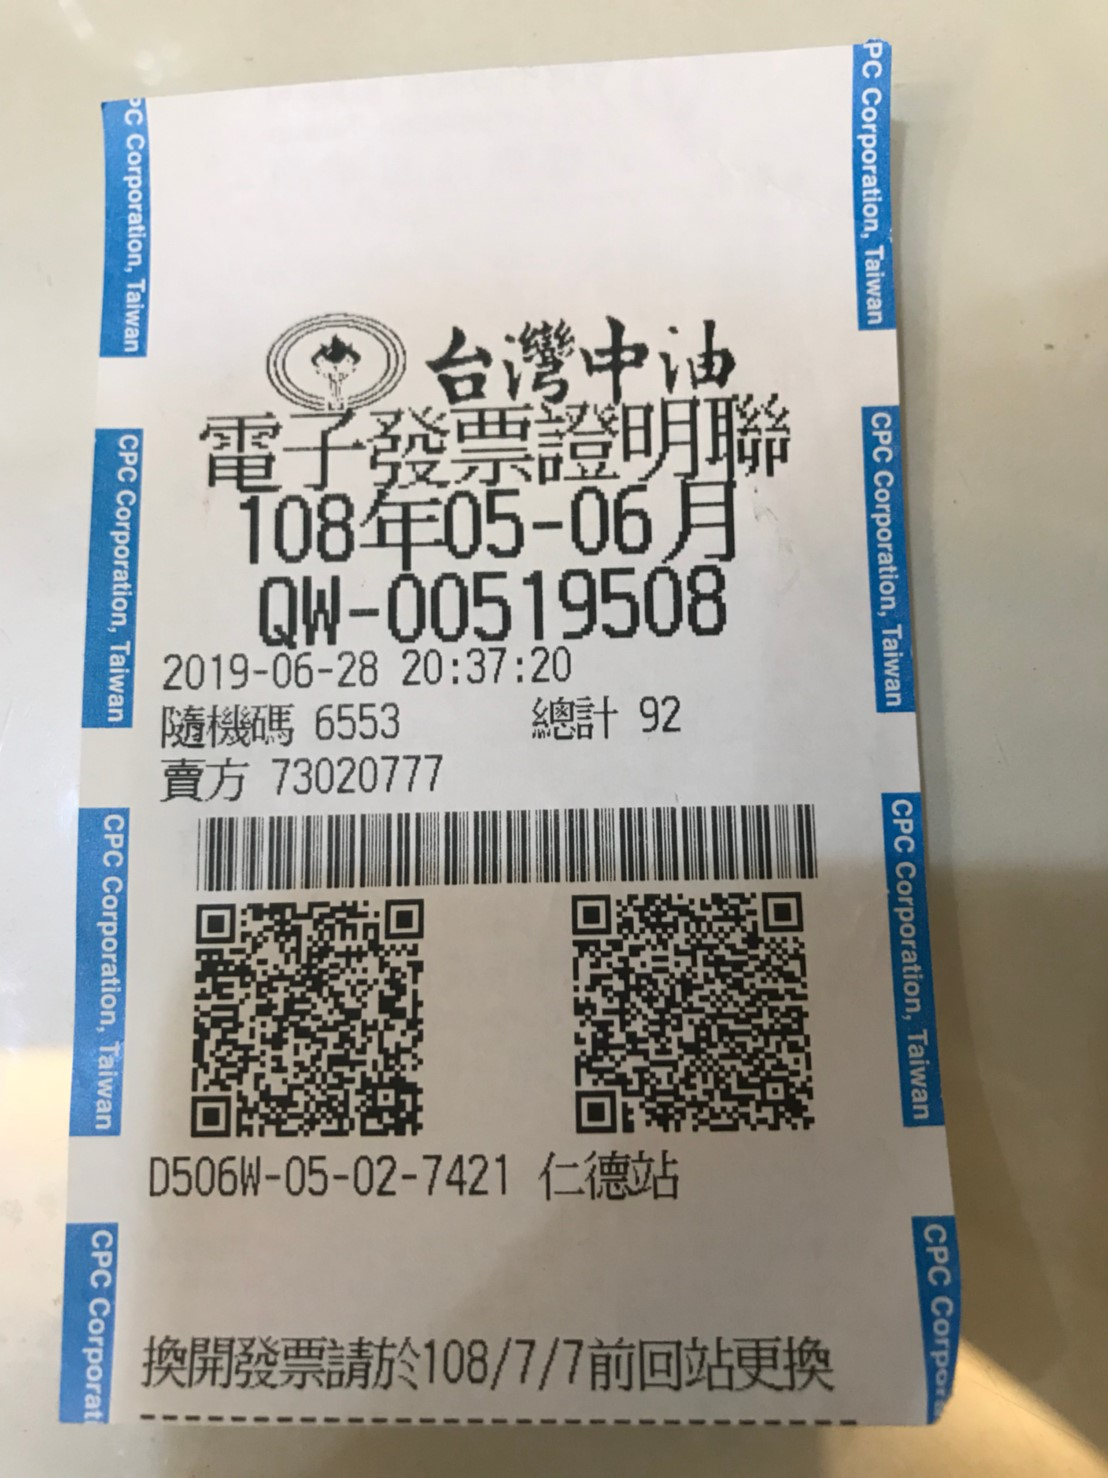Date_New: (237, 479, 743, 568)
Number_New: (383, 562, 731, 649)
